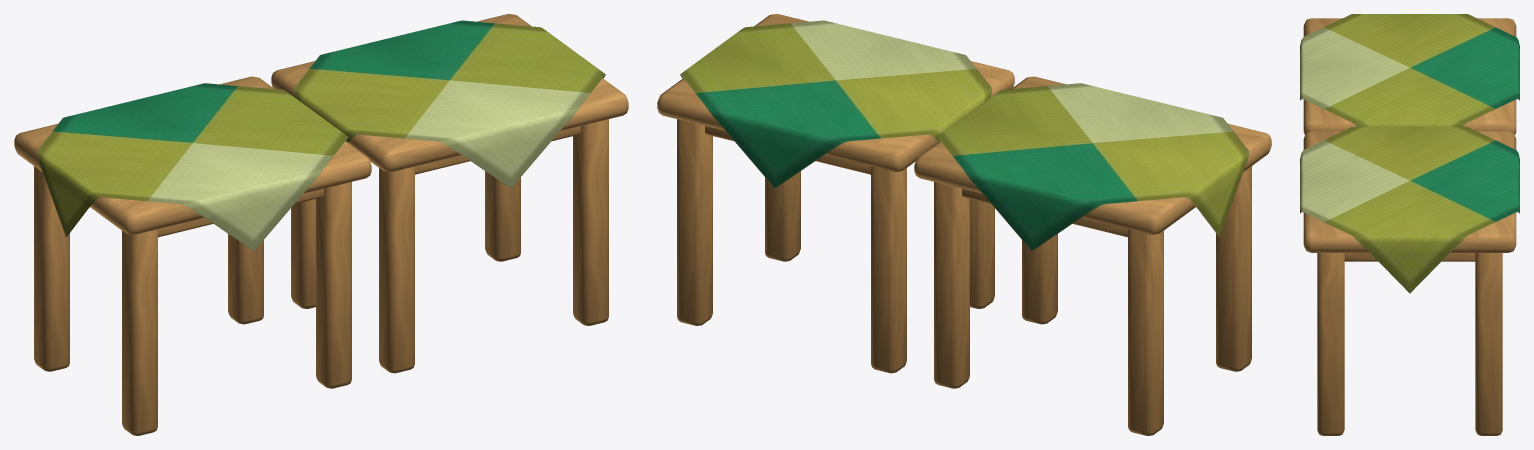
File: study-table-classic-long.glb
3 views of the same model, side by side, from view 1: azimuth 30°, elevation 25°; view 2: azimuth 150°, elevation 25°; view 3: azimuth 270°, elevation 25° (orthographic). The views are drawn at different scales.
Parts seen in each view (by area): view 1: study-table-classic-long; view 2: study-table-classic-long; view 3: study-table-classic-long.
Boxes of the visible parts, x1=… form: study-table-classic-long: x1=14, y1=14, x2=628, y2=435; study-table-classic-long: x1=657, y1=14, x2=1271, y2=435; study-table-classic-long: x1=1300, y1=14, x2=1519, y2=435.
Bounding box in the file's own units: 1.95 × 0.846 × 0.806.
Materials: 2 (2 with a texture image).
